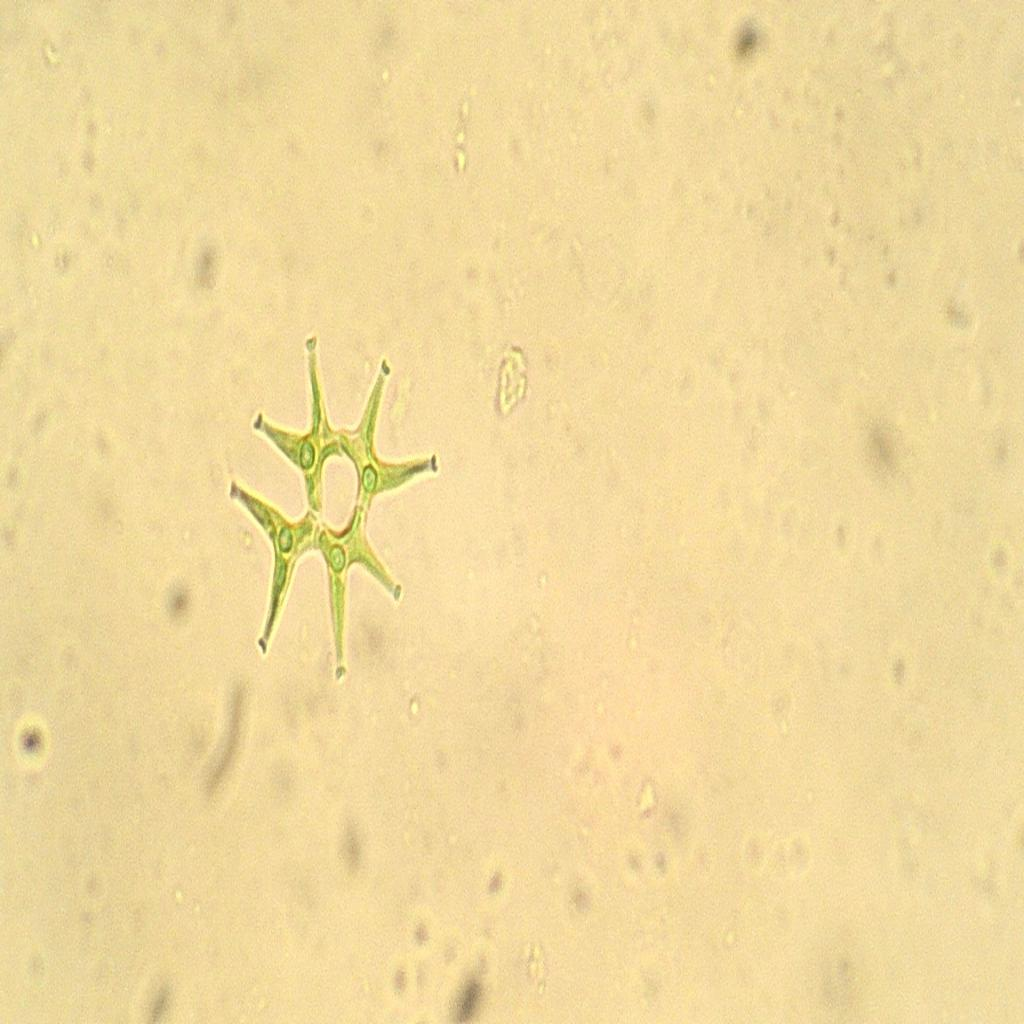Pediastrum_CT: (210, 319, 448, 699)
